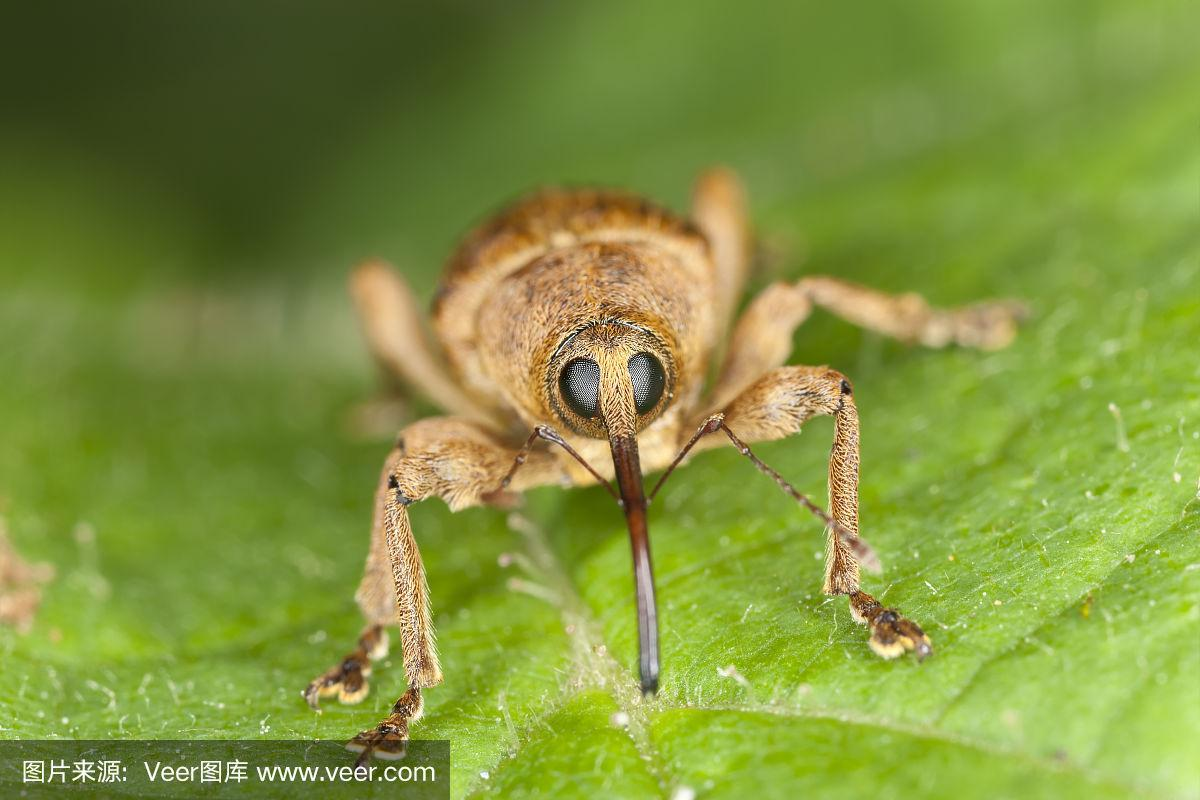Curculionidae: (300, 168, 1026, 767)
